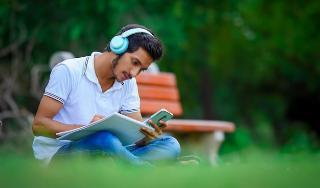person - v3 P: (33, 25, 180, 166)
